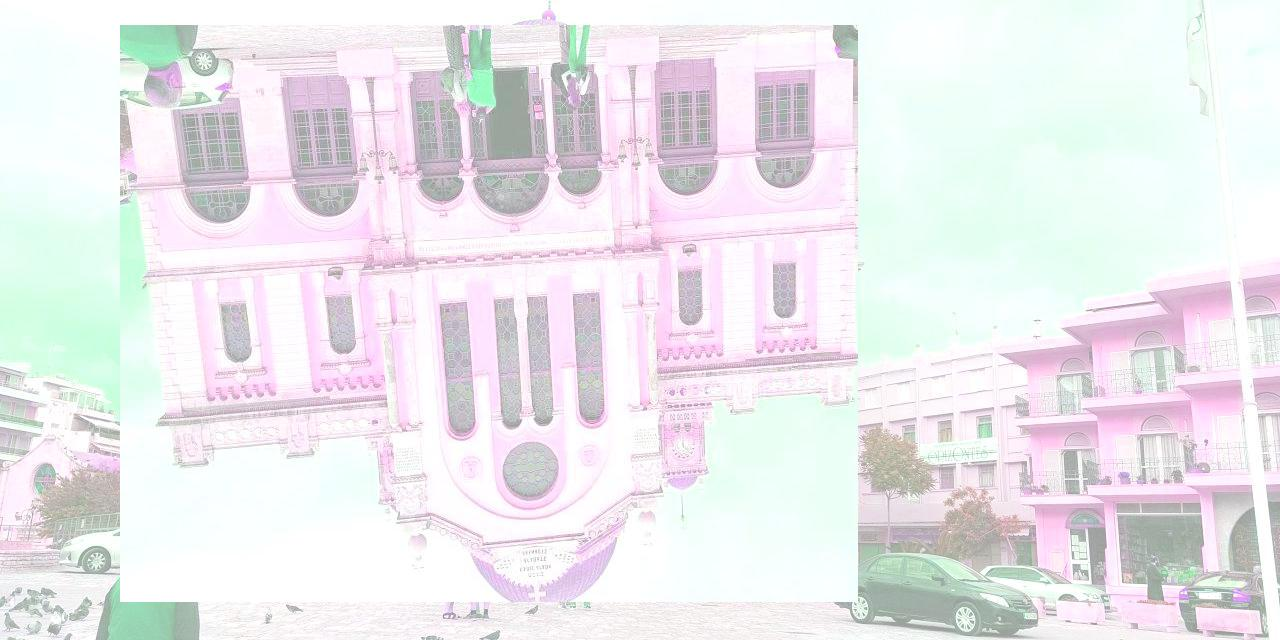Agios Minas: (121, 26, 859, 603)
